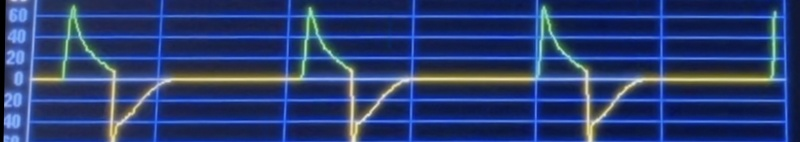normal_flow: (50, 3, 657, 142)
